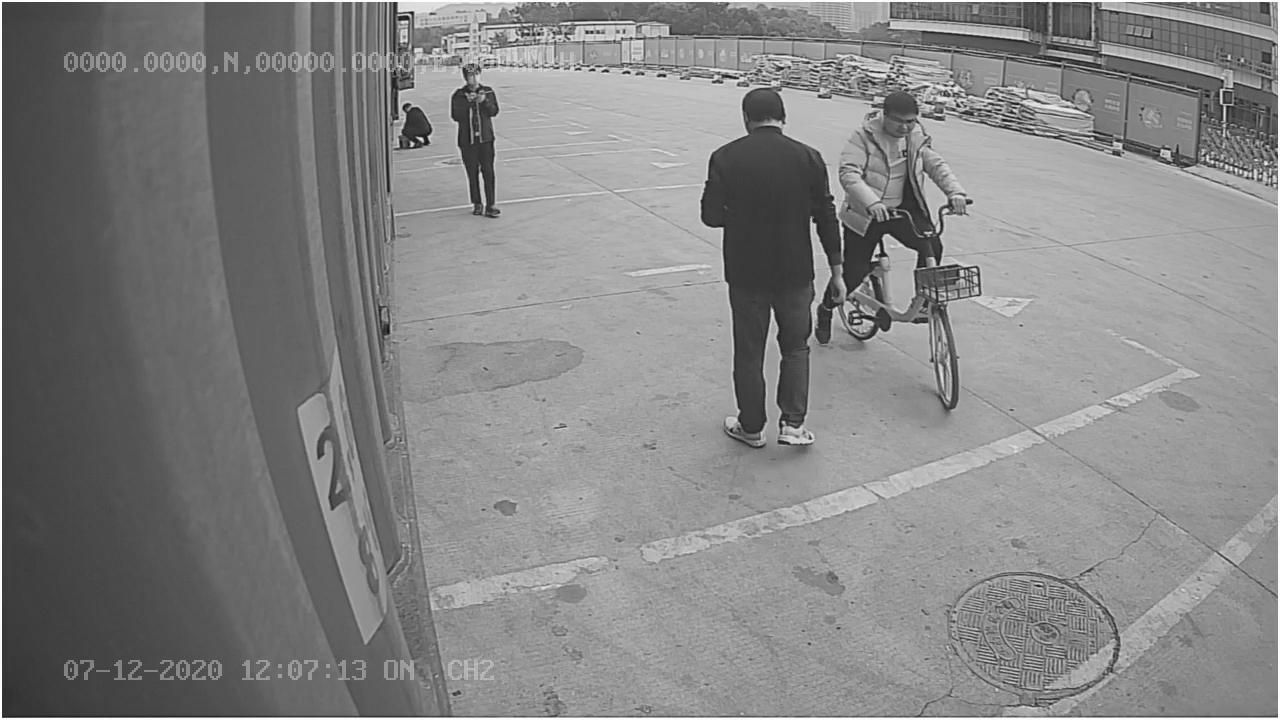person: (700, 76, 843, 449)
